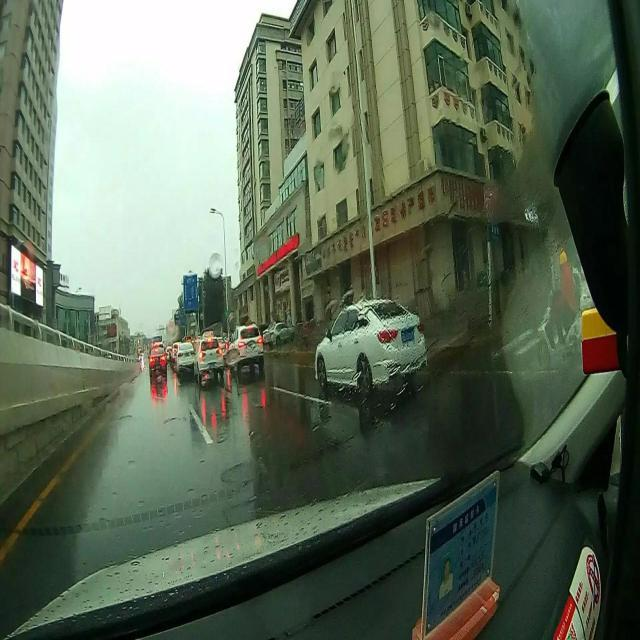car: (311, 296, 427, 390), (222, 322, 266, 364), (194, 332, 224, 376), (146, 342, 168, 377), (172, 340, 195, 372)
